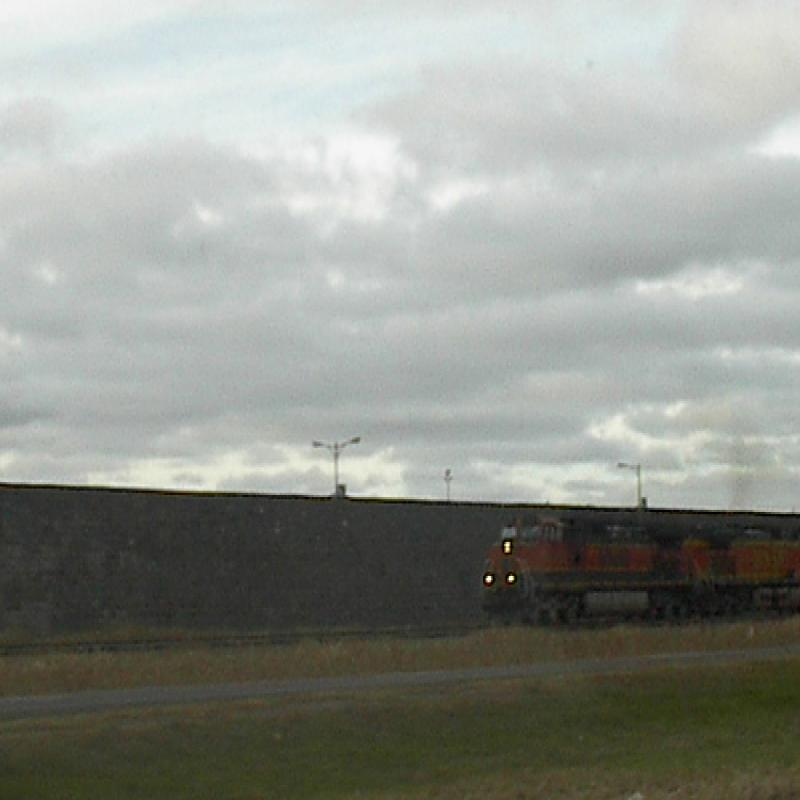train: (481, 515, 799, 628)
